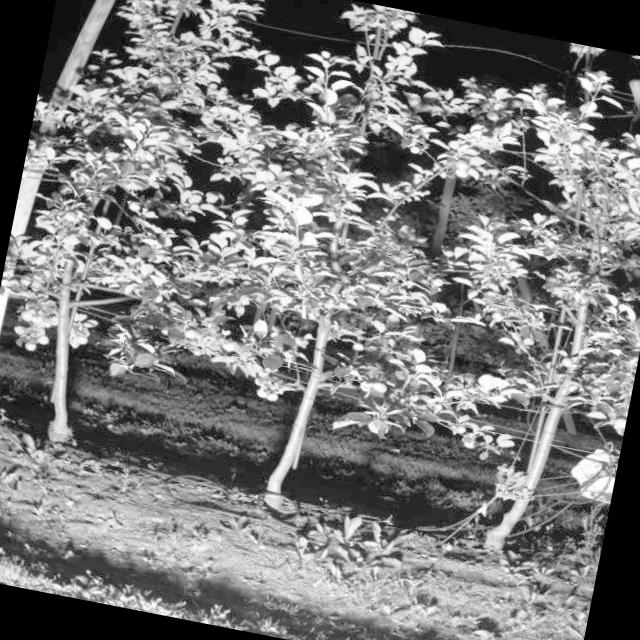Tree: (196, 0, 470, 529), (0, 0, 261, 474), (441, 39, 640, 576)
